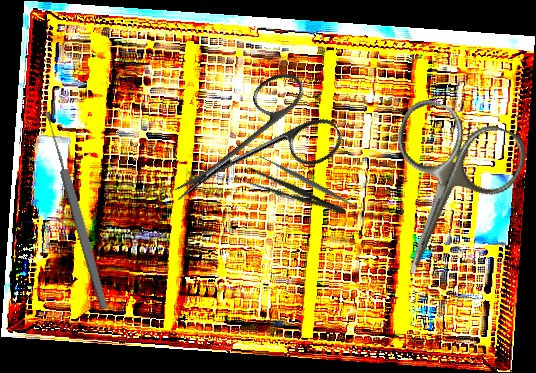Dressing Forceps: (232, 162, 350, 221)
Iris Scissors: (351, 93, 533, 297), (149, 62, 349, 239)
Spatula Surgical: (253, 148, 366, 217)
Surgical Spoon: (42, 110, 110, 310)
